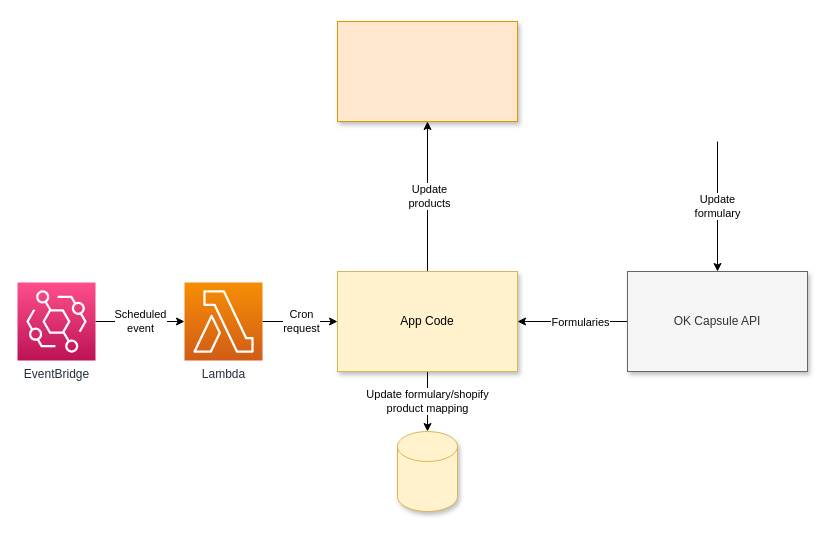
Some shapes in this 831 by 536 pixel diagram are drawn without their labels. The centre of each missing label's shape, as x and y in pixels:
"DB" goes at point 428,472.
"Shopify API" goes at point 428,72.
